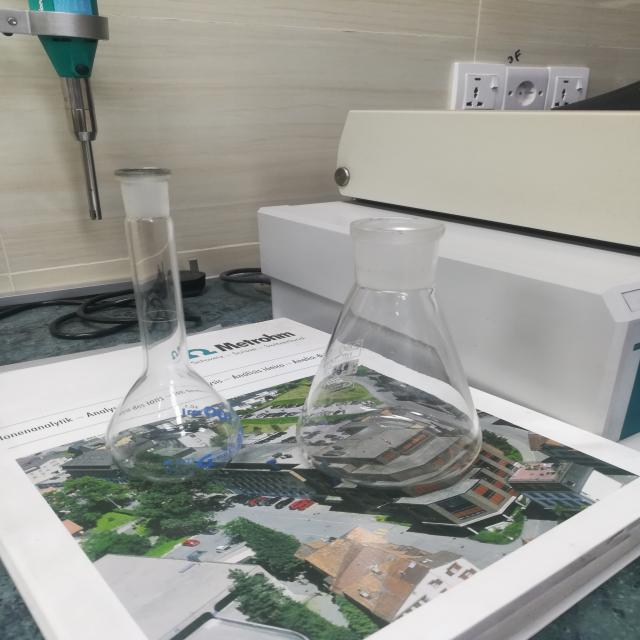Conical_Flask: (282, 191, 506, 511)
Volumetric_Flask: (69, 124, 256, 503)
